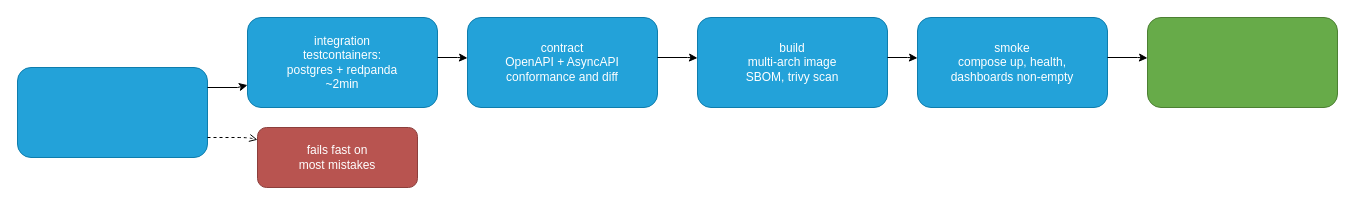
Image size: 1355x205. Some labels were removed from this diagram. Each missing label, with the box of its shape:
fast gate format, lint, mypy, import-linter, domain tests <30s: (16, 66, 208, 158)
system invariants make demo, 4 checked: (1146, 16, 1338, 108)
